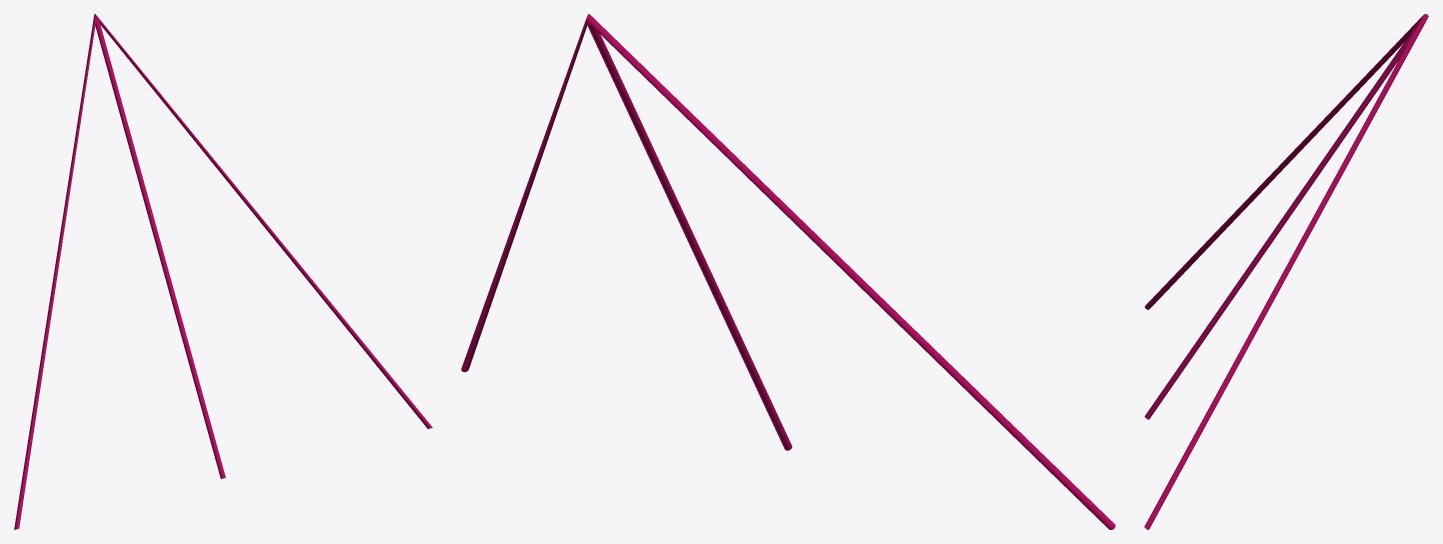
The picture shows the model from 3 angles, left to right: view 1: azimuth 30°, elevation 25°; view 2: azimuth 150°, elevation 25°; view 3: azimuth 270°, elevation 25°; orthographic projection. The views are drawn at different scales.
Parts seen in each view (by area): view 1: Циліндр.001; view 2: Циліндр.001; view 3: Циліндр.001.
Boxes of the visible parts, box(x1,y1,x2,y2) form: Циліндр.001: box(14, 14, 432, 529); Циліндр.001: box(461, 14, 1115, 529); Циліндр.001: box(1144, 14, 1428, 529).
Bounding box in the file's own units: 5.68 × 4.83 × 3.07.
